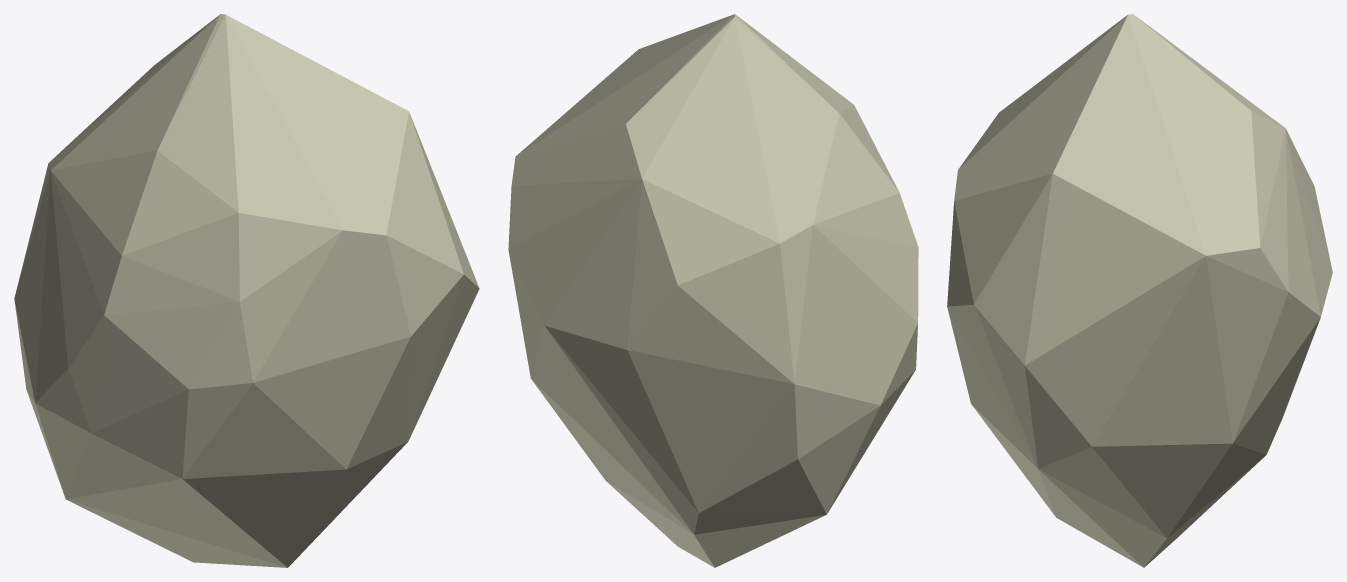
File: food_produce_mango_j01.glb
The picture shows the model from 3 angles, left to right: view 1: azimuth 30°, elevation 25°; view 2: azimuth 150°, elevation 25°; view 3: azimuth 270°, elevation 25°; orthographic projection. The views are drawn at different scales.
Parts seen in each view (by area): view 1: geometry_0; view 2: geometry_0; view 3: geometry_0.
Boxes of the visible parts, x1,y1,x2,y2 form: geometry_0: [14, 14, 479, 567]; geometry_0: [508, 14, 918, 567]; geometry_0: [947, 14, 1332, 567].
Bounding box in the file's own units: 0.3264 × 0.4762 × 0.3141.
